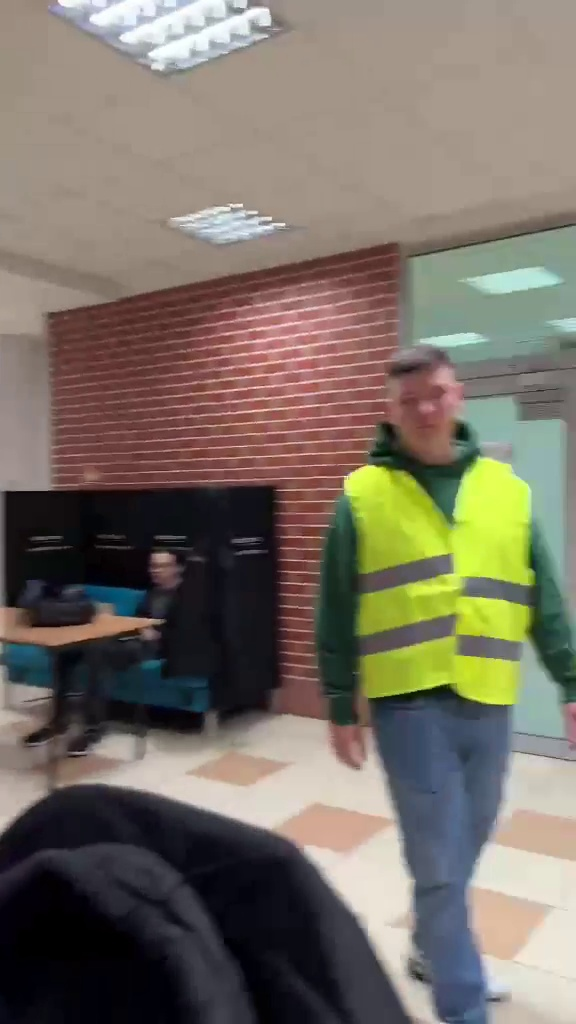no vest: (38, 525, 229, 762)
vest: (313, 331, 575, 1024)
